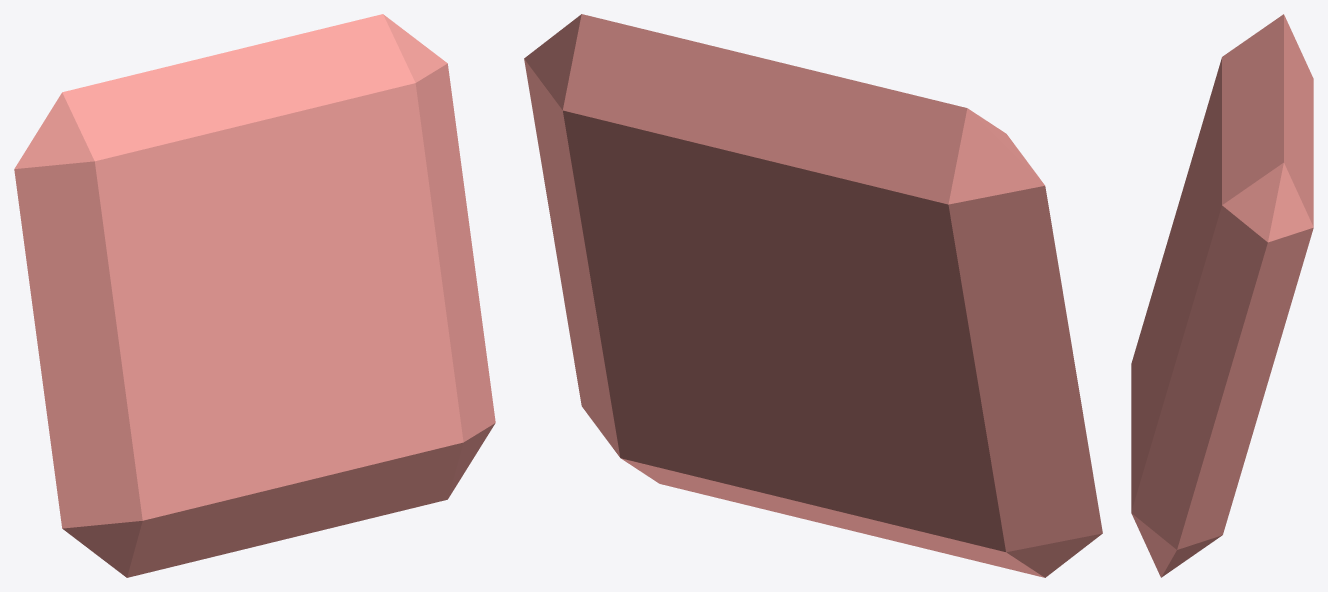
The model's file is pillow.glb.
3 renders of one model, left to right at view 1: azimuth 30°, elevation 25°; view 2: azimuth 150°, elevation 25°; view 3: azimuth 270°, elevation 25°, orthographic. The views are drawn at different scales.
Visible parts, largest first — view 1: pillow(Clone); view 2: pillow(Clone); view 3: pillow(Clone).
Boxes of the visible parts, x1,y1,x2,y2 form: pillow(Clone): [14, 14, 495, 577]; pillow(Clone): [524, 14, 1102, 577]; pillow(Clone): [1131, 14, 1313, 577].
Bounding box in the file's own units: 0.4669 × 0.451 × 0.1796.
1 material, 1 textured.
